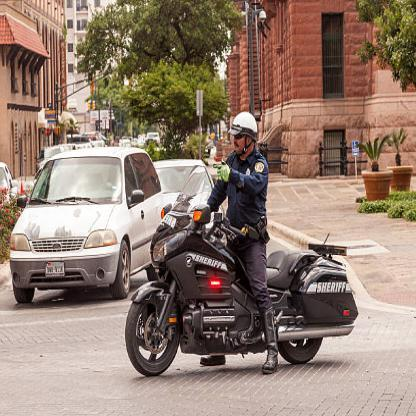Motorcycle: (126, 215, 353, 376)
